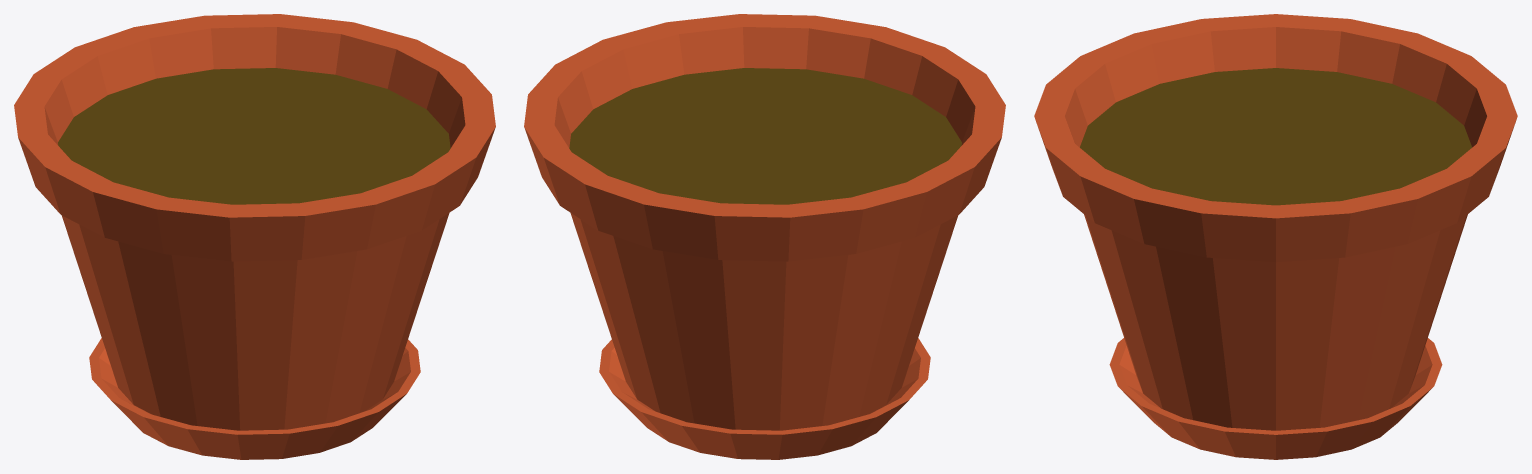
The picture shows the model from 3 angles, left to right: view 1: azimuth 30°, elevation 25°; view 2: azimuth 150°, elevation 25°; view 3: azimuth 270°, elevation 25°; orthographic projection.
Visible parts, largest first — view 1: flowerpot; view 2: flowerpot; view 3: flowerpot.
Part boxes in pixels (left/top/right/bottom): flowerpot: left=14, top=14, right=495, bottom=459; flowerpot: left=524, top=14, right=1005, bottom=459; flowerpot: left=1034, top=14, right=1517, bottom=459.
Size of the model in its own units: 0.3003 by 0.1982 by 0.3003.
